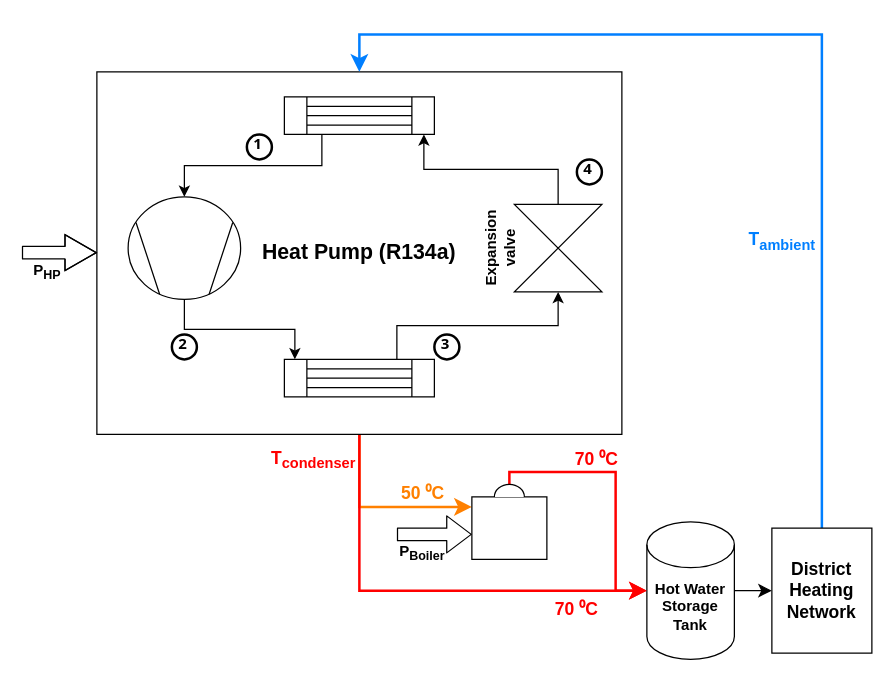
Some shapes in this 894 by 681 pixel diagram are drawn without their labels. Each missing label, with the box of its shape:
Compressor: (127, 196, 241, 299)
Condenser: (283, 358, 434, 397)
Electric Boiler: (471, 483, 547, 559)
Evaporator: (283, 96, 434, 134)
